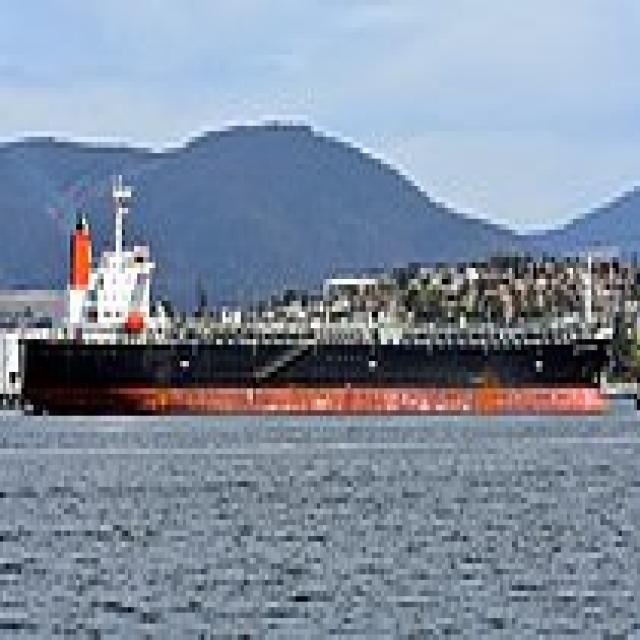Tanker: (12, 164, 610, 410)
